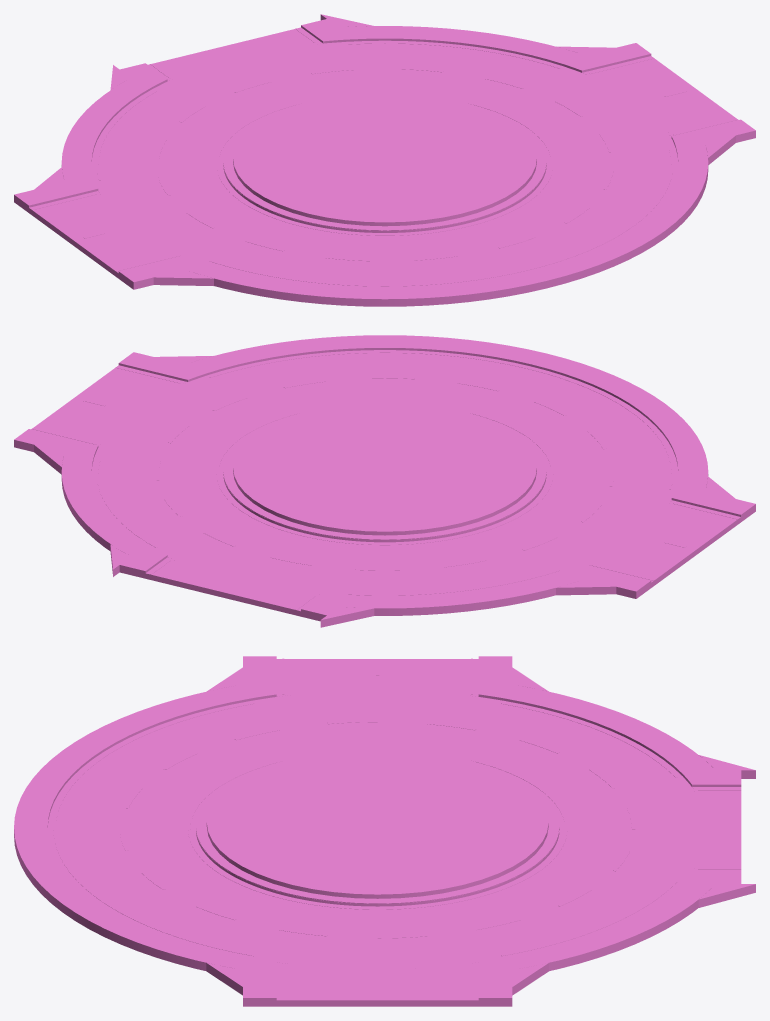
Rendered from Road_Roundabout.fbx.
3 views of the same model, one above another, from view 1: azimuth 30°, elevation 25°; view 2: azimuth 150°, elevation 25°; view 3: azimuth 270°, elevation 25° (orthographic). The views are drawn at different scales.
Parts seen in each view (by area): view 1: Roundabout_1, Roundabout_0, Island, RoundaboutW, RoundaboutE, RoundaboutN; view 2: Roundabout_0, Roundabout_1, Island, RoundaboutW, RoundaboutE, RoundaboutN; view 3: Roundabout_1, Roundabout_0, Island, RoundaboutE, RoundaboutW, RoundaboutN.
Part boxes in pixels (x1,y1,x2,y2): Roundabout_1: (152, 103, 708, 306); Roundabout_0: (61, 26, 638, 239); Island: (223, 93, 546, 230); RoundaboutW: (14, 167, 213, 289); RoundaboutE: (557, 43, 755, 164); RoundaboutN: (110, 14, 373, 89); Roundabout_0: (61, 412, 655, 615); Roundabout_1: (131, 335, 708, 521); Island: (223, 403, 546, 539); RoundaboutW: (556, 476, 755, 598); RoundaboutE: (14, 352, 212, 474); RoundaboutN: (110, 544, 374, 627); Roundabout_1: (14, 685, 377, 970); Roundabout_0: (334, 685, 713, 971); Island: (196, 749, 559, 903); RoundaboutE: (206, 956, 548, 1006); RoundaboutW: (207, 656, 548, 700); RoundaboutN: (682, 755, 755, 907).
Bounding box in the file's own units: 120 × 2.2 × 110.
Materials: 1 (1 with a texture image).
